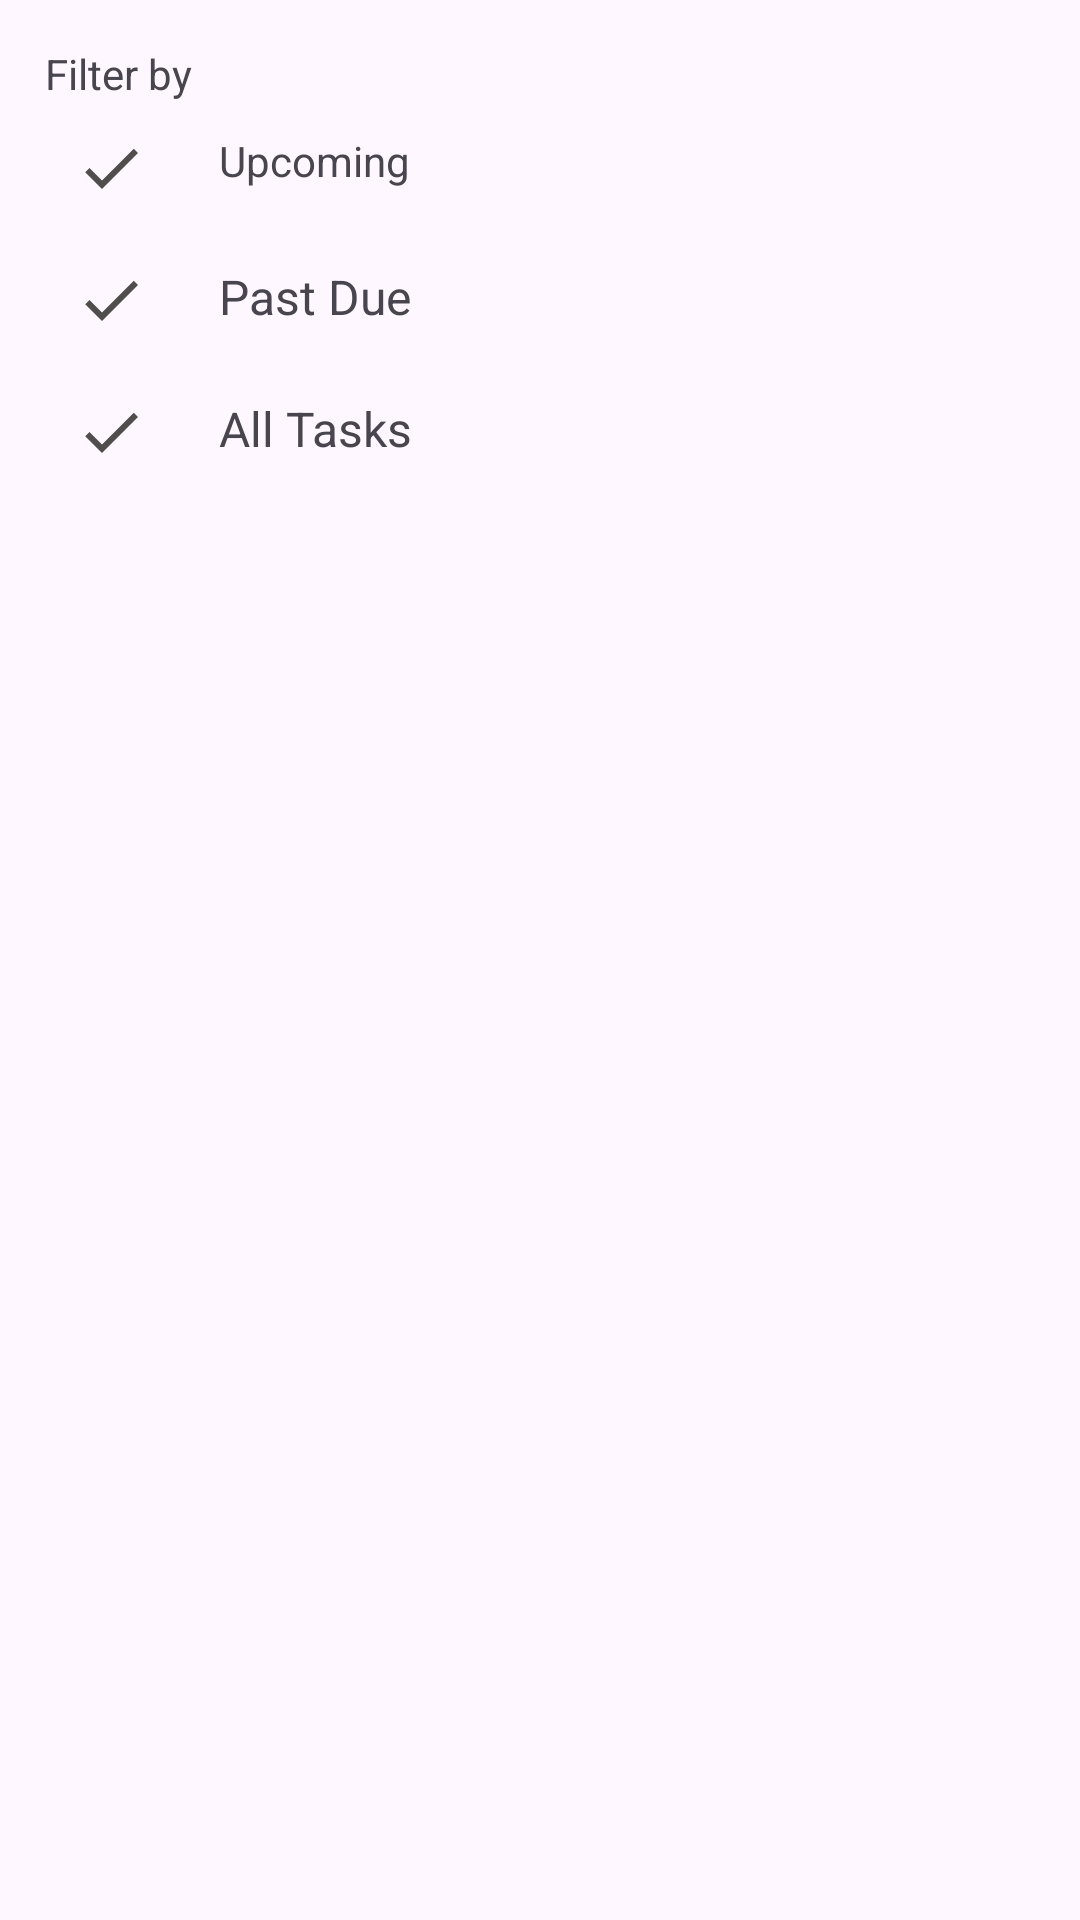

Where to tap for icons on this 1080px x 1920px app screen, as [x,y]:
checked: [111,169], [111,301], [111,433]
